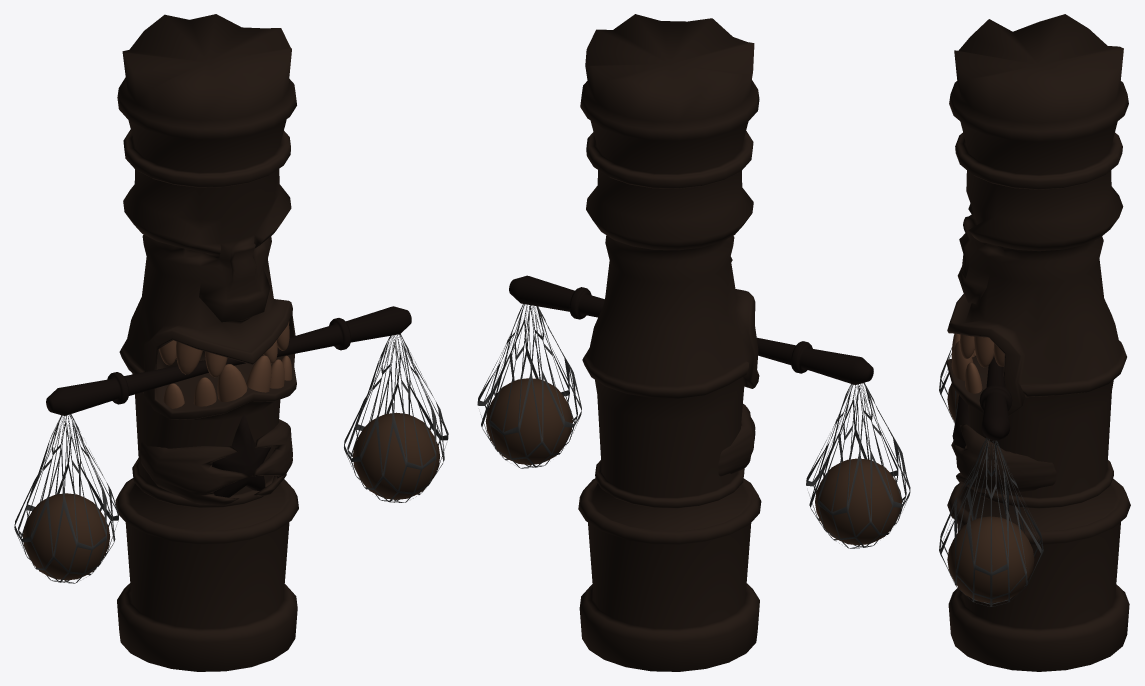
File: Totem.fbx
3 views of the same model, side by side, from view 1: azimuth 30°, elevation 25°; view 2: azimuth 150°, elevation 25°; view 3: azimuth 270°, elevation 25° (orthographic).
Visible parts, largest first — view 1: Totem; view 2: Totem; view 3: Totem.
Part boxes in pixels (x1,y1,x2,y2): Totem: (14,14,448,671); Totem: (477,14,910,671); Totem: (939,14,1130,671).
Size of the model in its own units: 24.6 by 32.96 by 9.77.
